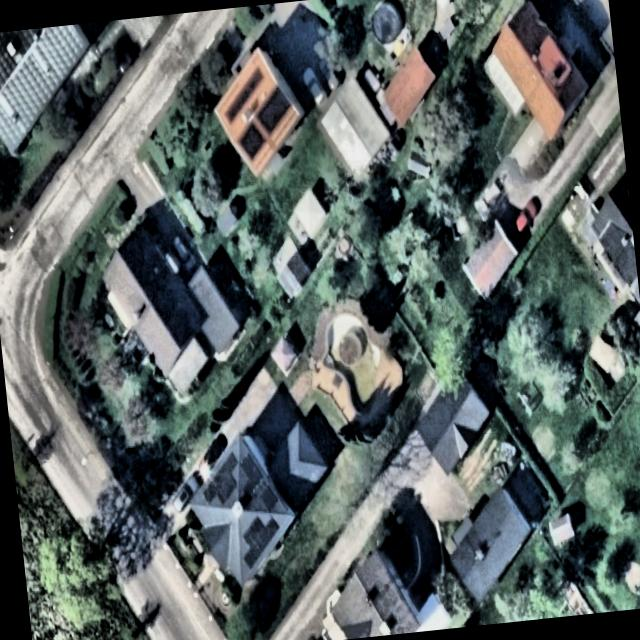roof_pv: (234, 509, 288, 573), (219, 62, 270, 125), (198, 450, 243, 510), (253, 81, 295, 139), (234, 448, 270, 499), (235, 117, 268, 166), (258, 480, 286, 516)
